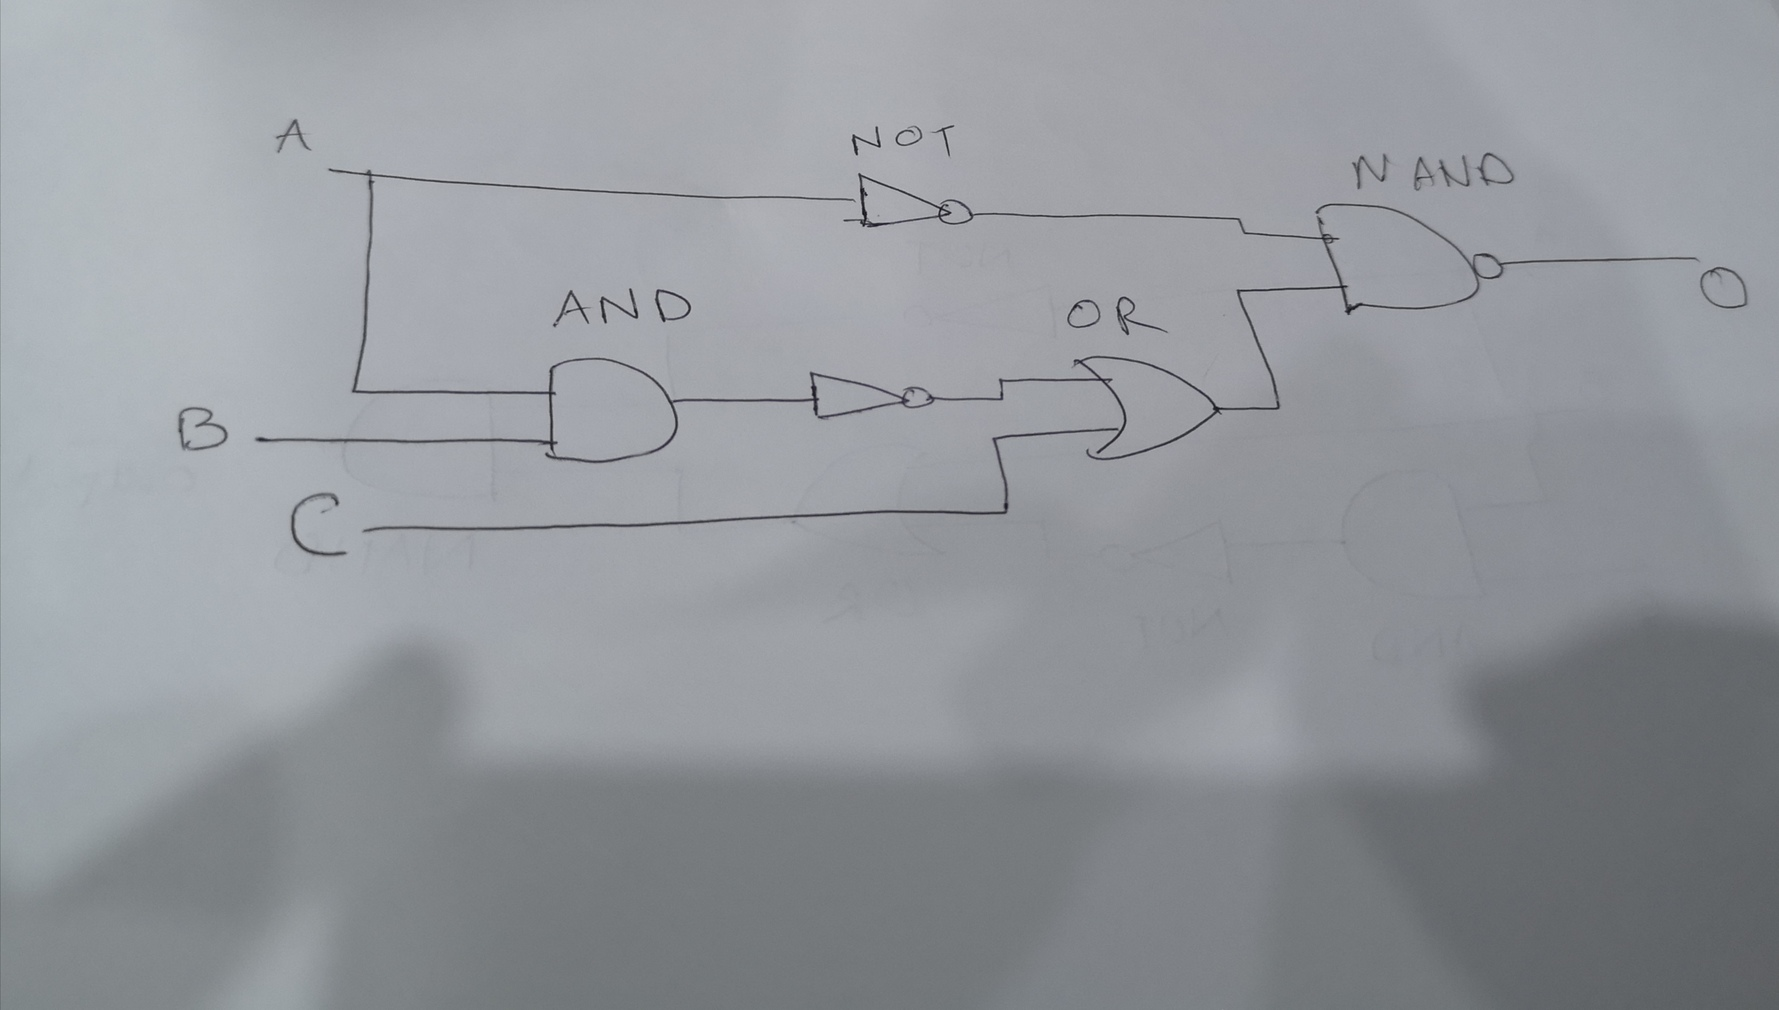and: (534, 351, 685, 468)
junction: (356, 162, 376, 184), (995, 501, 1015, 521), (345, 380, 363, 401), (986, 430, 1004, 449), (1230, 214, 1247, 233), (1230, 283, 1249, 300), (1233, 221, 1250, 238), (1268, 399, 1287, 415), (995, 392, 1006, 405), (995, 374, 1006, 385)
nand: (1310, 197, 1511, 319)
not: (836, 169, 984, 233), (798, 363, 942, 423)
or: (1068, 348, 1227, 469)
terminal: (1684, 245, 1706, 271), (356, 520, 380, 540), (249, 429, 271, 449), (321, 160, 338, 177)
text: (1343, 147, 1520, 199), (552, 285, 699, 332), (853, 118, 959, 180), (1061, 289, 1174, 340), (283, 486, 356, 561), (175, 401, 235, 456), (1695, 263, 1755, 314), (272, 116, 314, 156)
